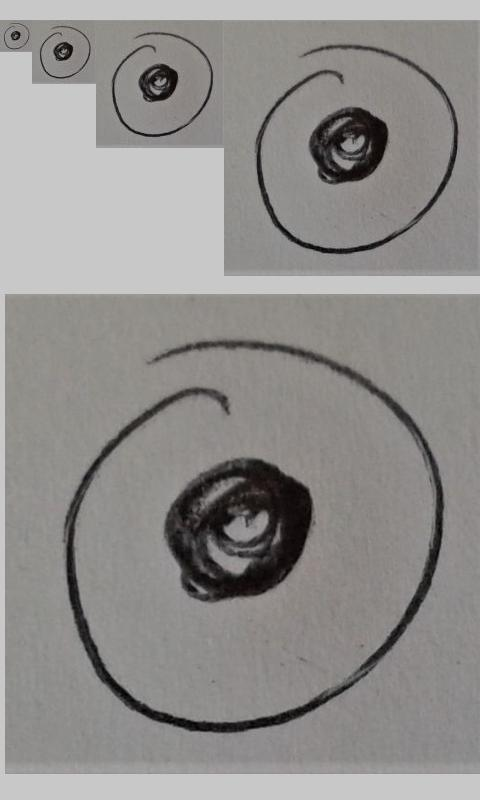radio_button: (58, 334, 447, 735), (251, 40, 462, 255), (110, 30, 214, 139), (38, 24, 93, 80), (3, 22, 30, 50)
